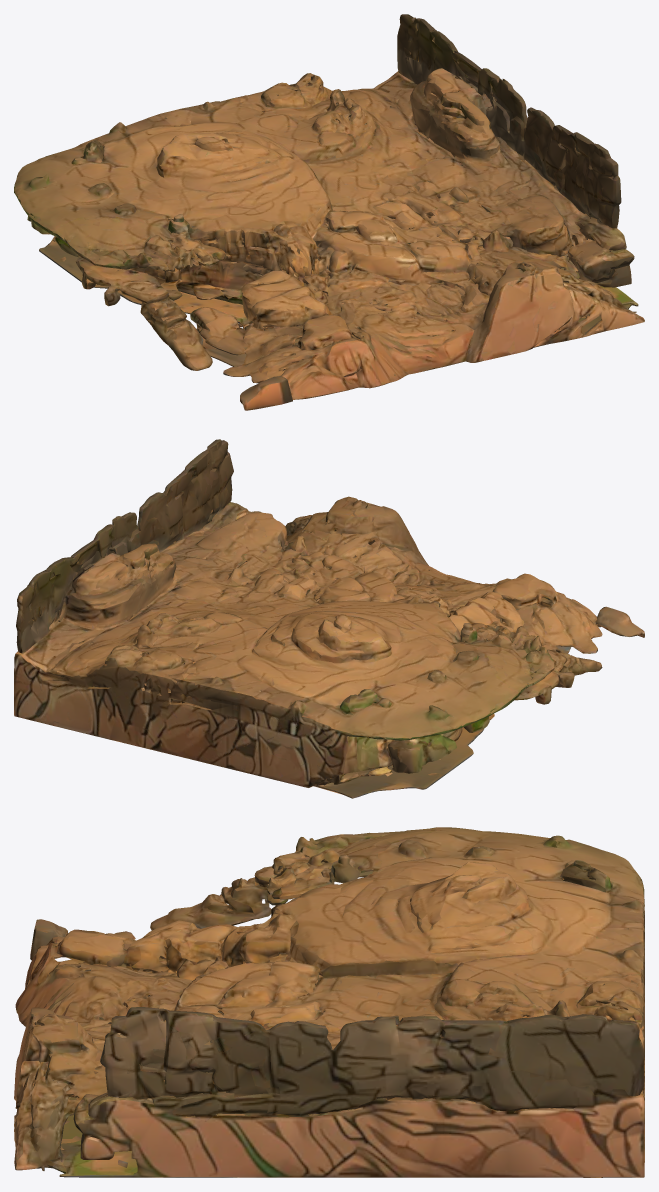
The model's file is willow-stems-v13.glb.
The picture shows the model from 3 angles, top to bottom: view 1: azimuth 30°, elevation 25°; view 2: azimuth 150°, elevation 25°; view 3: azimuth 270°, elevation 25°; orthographic projection. The views are drawn at different scales.
Parts seen in each view (by area): view 1: geometry_0; view 2: geometry_0; view 3: geometry_0.
Boxes of the visible parts, x1,y1,x2,y2 form: geometry_0: [14, 14, 644, 410]; geometry_0: [14, 439, 644, 798]; geometry_0: [14, 827, 644, 1177].
Bounding box in the file's own units: 49.98 × 14.91 × 50.04.
1 material, 1 textured.
